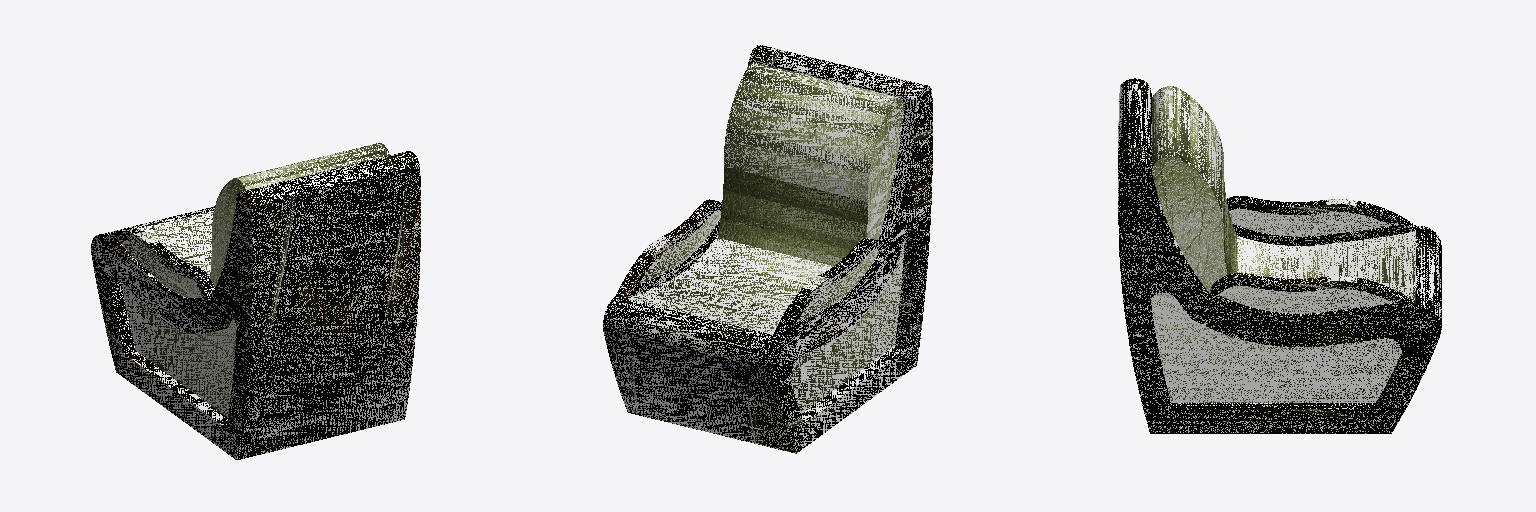
3 renders of one model, left to right at view 1: azimuth 30°, elevation 25°; view 2: azimuth 150°, elevation 25°; view 3: azimuth 270°, elevation 25°, orthographic.
Parts seen in each view (by area): view 1: mesh2_mesh2-geometry, mesh1_mesh1-geometry; view 2: mesh2_mesh2-geometry, mesh1_mesh1-geometry; view 3: mesh2_mesh2-geometry, mesh1_mesh1-geometry.
Part boxes in pixels (bbox=[...]): mesh2_mesh2-geometry: bbox=[91, 151, 420, 459]; mesh1_mesh1-geometry: bbox=[210, 143, 389, 286]; mesh2_mesh2-geometry: bbox=[603, 45, 932, 453]; mesh1_mesh1-geometry: bbox=[718, 62, 903, 265]; mesh2_mesh2-geometry: bbox=[1118, 78, 1441, 433]; mesh1_mesh1-geometry: bbox=[1152, 86, 1236, 293].
Bounding box in the file's own units: 0.4029 × 0.6238 × 0.6697.
3 materials, 2 textured.